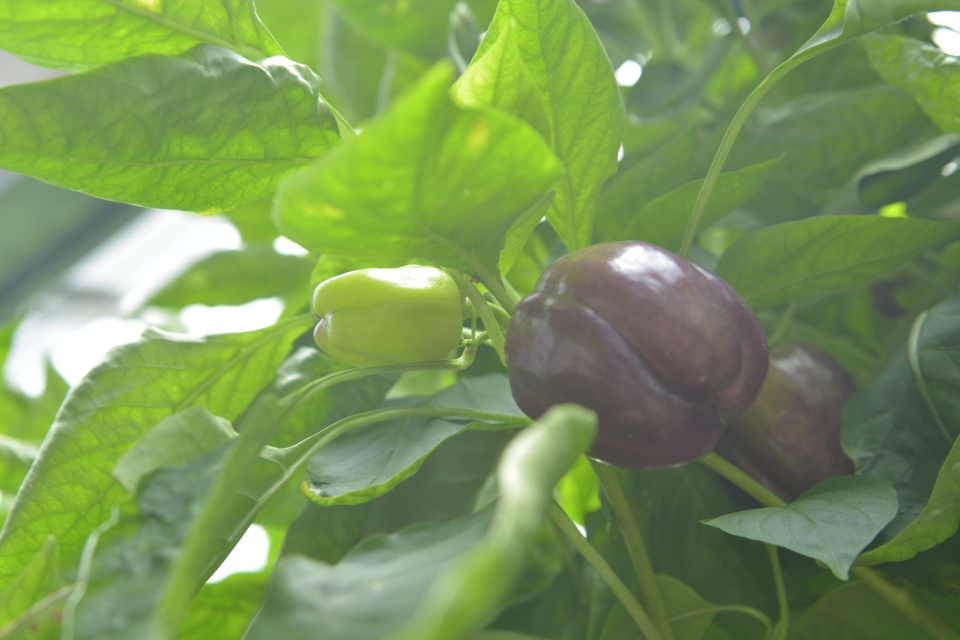fruit: (503, 238, 771, 474), (711, 334, 864, 514)
immature: (309, 260, 466, 369)
